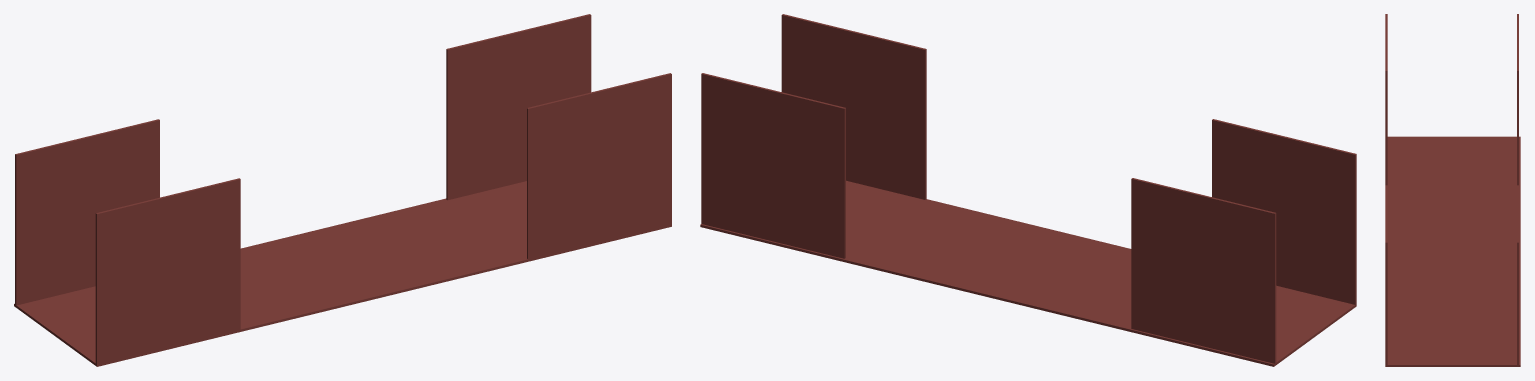
Rendered from 1x4Hell.fbx.
3 renders of one model, left to right at view 1: azimuth 30°, elevation 25°; view 2: azimuth 150°, elevation 25°; view 3: azimuth 270°, elevation 25°, orthographic. The views are drawn at different scales.
Parts seen in each view (by area): view 1: Plane.037; view 2: Plane.037; view 3: Plane.037.
Part boxes in pixels (x1,y1,x2,y2): Plane.037: (14,14,671,366); Plane.037: (700,14,1356,366); Plane.037: (1385,14,1520,366).
Size of the model in its own units: 14400 by 3657 by 3600.
